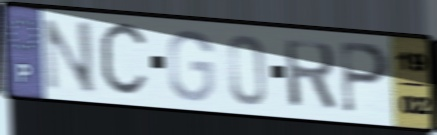0: (225, 32, 268, 107)
C: (96, 18, 151, 102)
G: (165, 27, 216, 104)
N: (41, 16, 98, 96)
P: (338, 38, 391, 117)
R: (281, 37, 339, 114)
